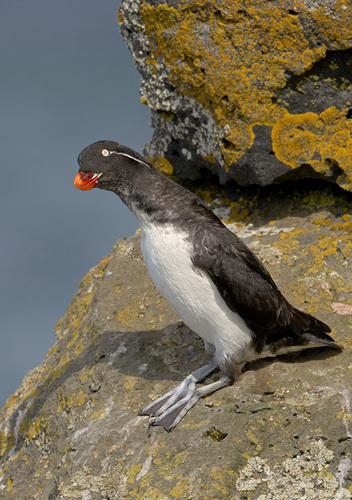007.Parakeet_Auklet: (68, 137, 342, 434)
